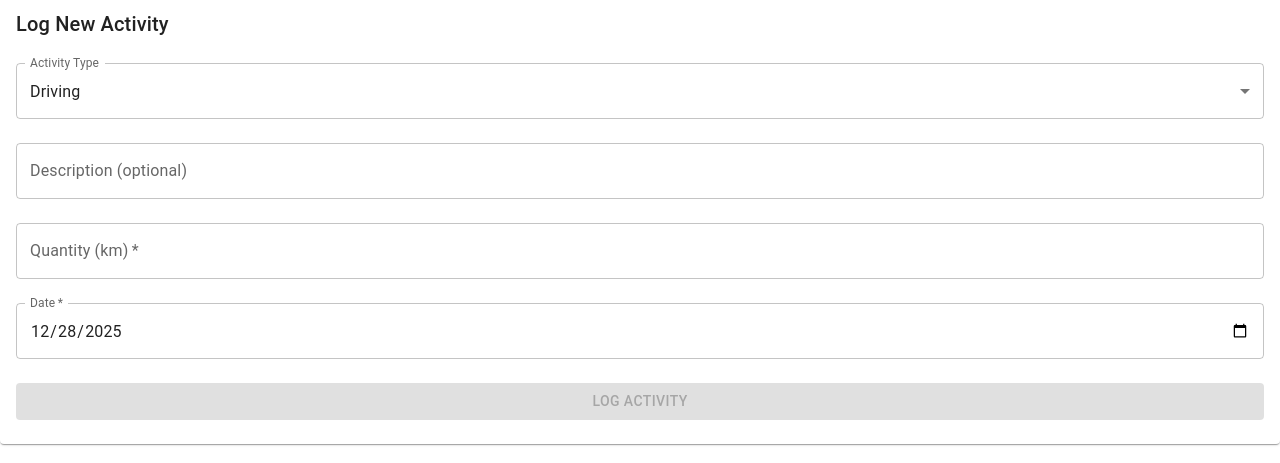
Scenario: ActivityForm › submit button is enabled when quantity is entered
// Number input has spinbutton role
In the number field: (640, 251) [16, 223, 1264, 279], type "100"
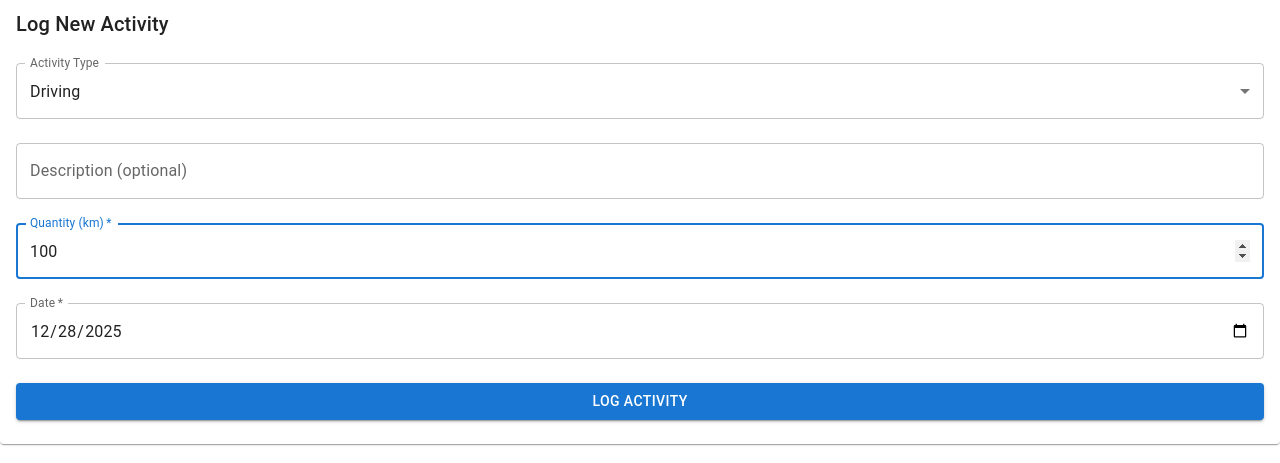
Check: the button "Log Activity" is enabled, box [16, 383, 1264, 420]
